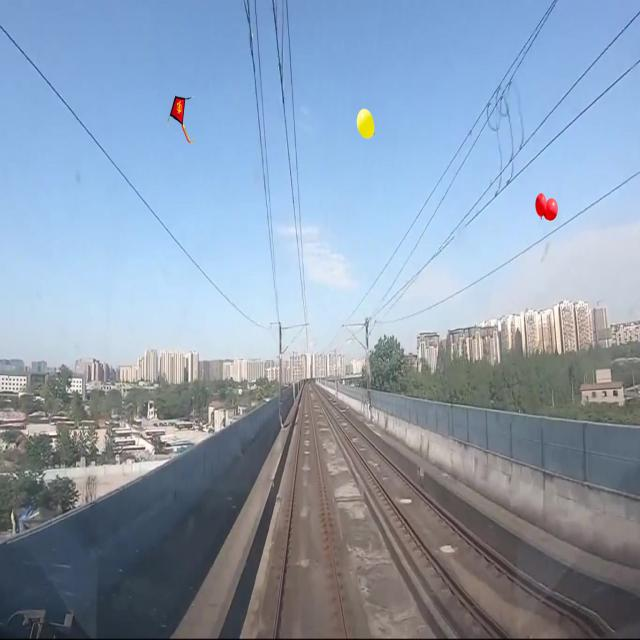balloon: (533, 191, 559, 221), (356, 105, 375, 139)
floating object: (166, 93, 194, 145)
